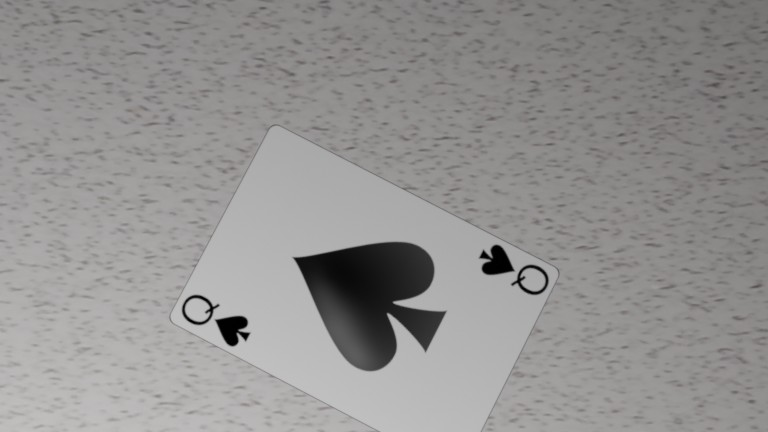queen_of_spades: (173, 284, 259, 356), (470, 235, 556, 307)
